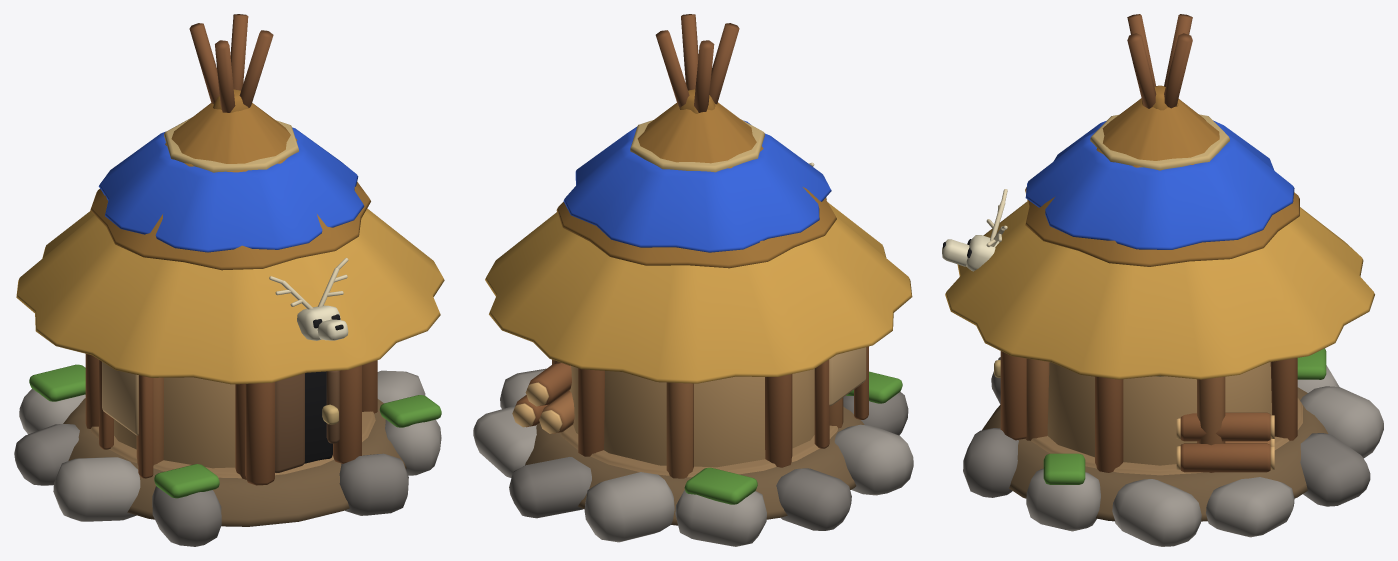
Rendered from Cottage.glb.
3 renders of one model, left to right at view 1: azimuth 30°, elevation 25°; view 2: azimuth 150°, elevation 25°; view 3: azimuth 270°, elevation 25°, orthographic.
Visible parts, largest first — view 1: Cottage; view 2: Cottage; view 3: Cottage.
Boxes of the visible parts, box(x1,y1,x2,y2) form: Cottage: box(14, 14, 444, 546); Cottage: box(473, 14, 913, 546); Cottage: box(942, 14, 1383, 546).
Bounding box in the file's own units: 2.03 × 2.22 × 2.02.
